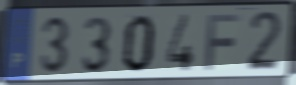0: (122, 13, 158, 74)
2: (247, 10, 284, 73)
3: (38, 14, 72, 77), (80, 15, 114, 74)
4: (164, 12, 195, 74)
F: (202, 12, 243, 73)
